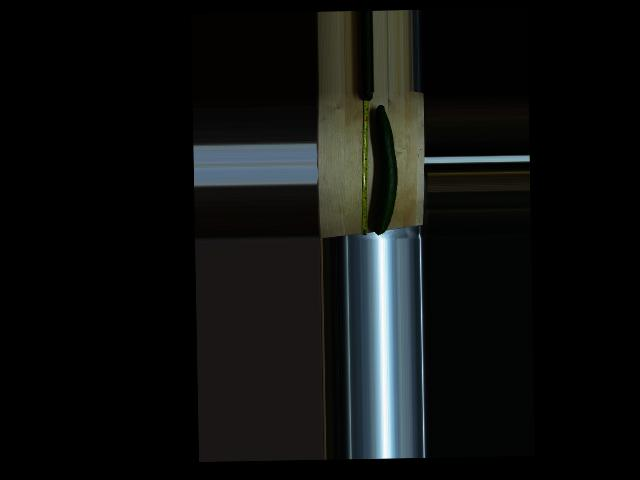cucumber: (370, 104, 398, 234)
